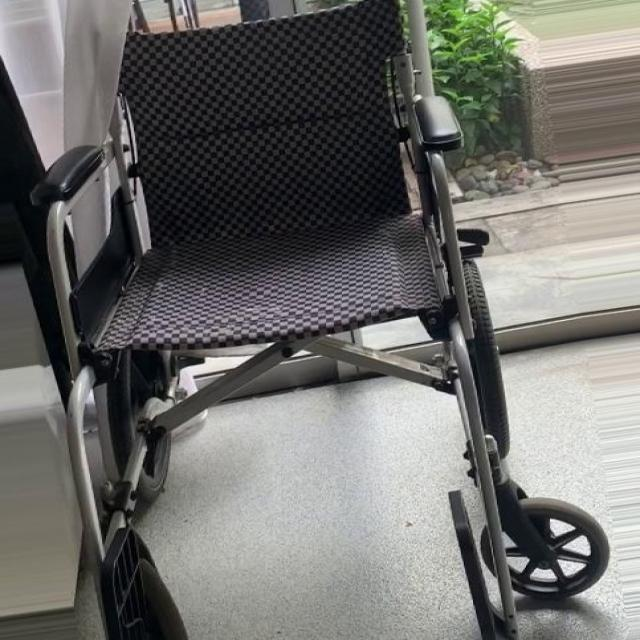wheelchair: (0, 2, 613, 640)
